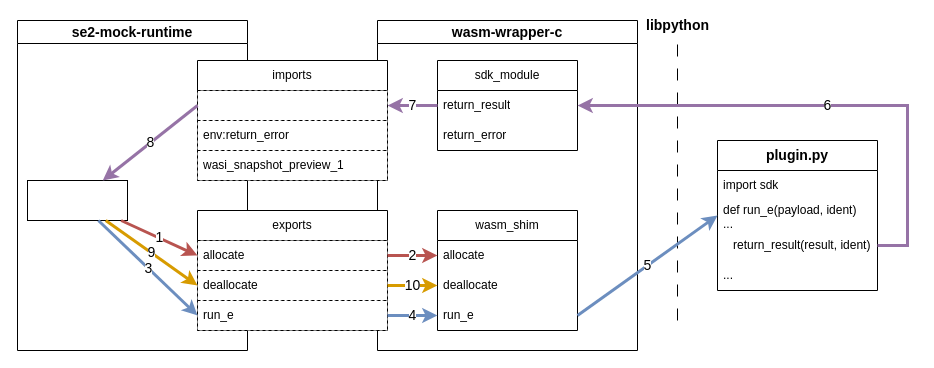
Image size: 934x368. Some labels were removed from this diagram. The shapes that lost their labels are listed below. From the top down, each one's centre as x and y in pixels, then its label:
At pixel 292 105: "env:return_result".
At pixel 77 200: "runtime.js".
